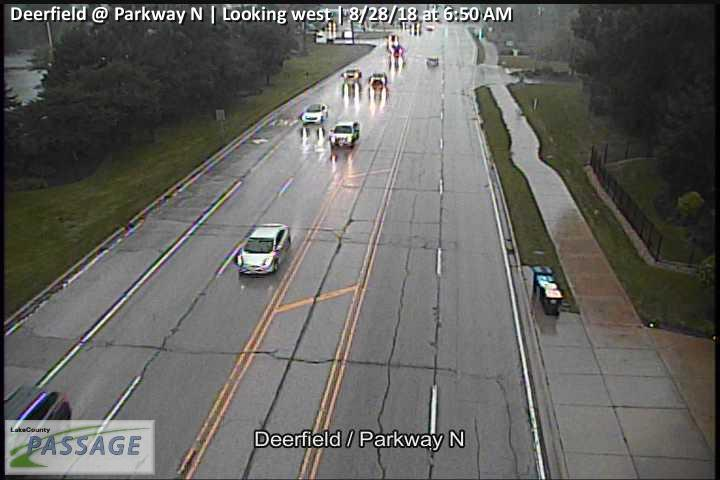SUV: (1, 384, 74, 477)
Sedan: (236, 224, 291, 276), (330, 121, 360, 147), (301, 103, 328, 126), (366, 74, 388, 90), (341, 66, 361, 83), (391, 45, 405, 58), (426, 56, 439, 67)
